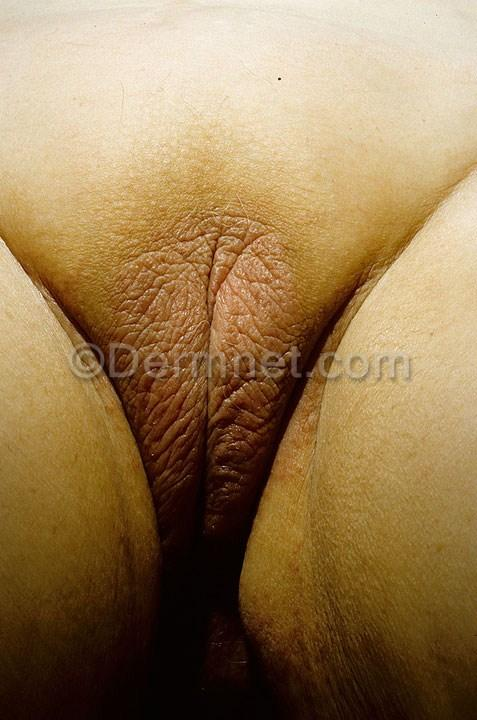Eczema: (207, 156, 343, 335), (140, 382, 263, 554), (78, 233, 194, 341)
